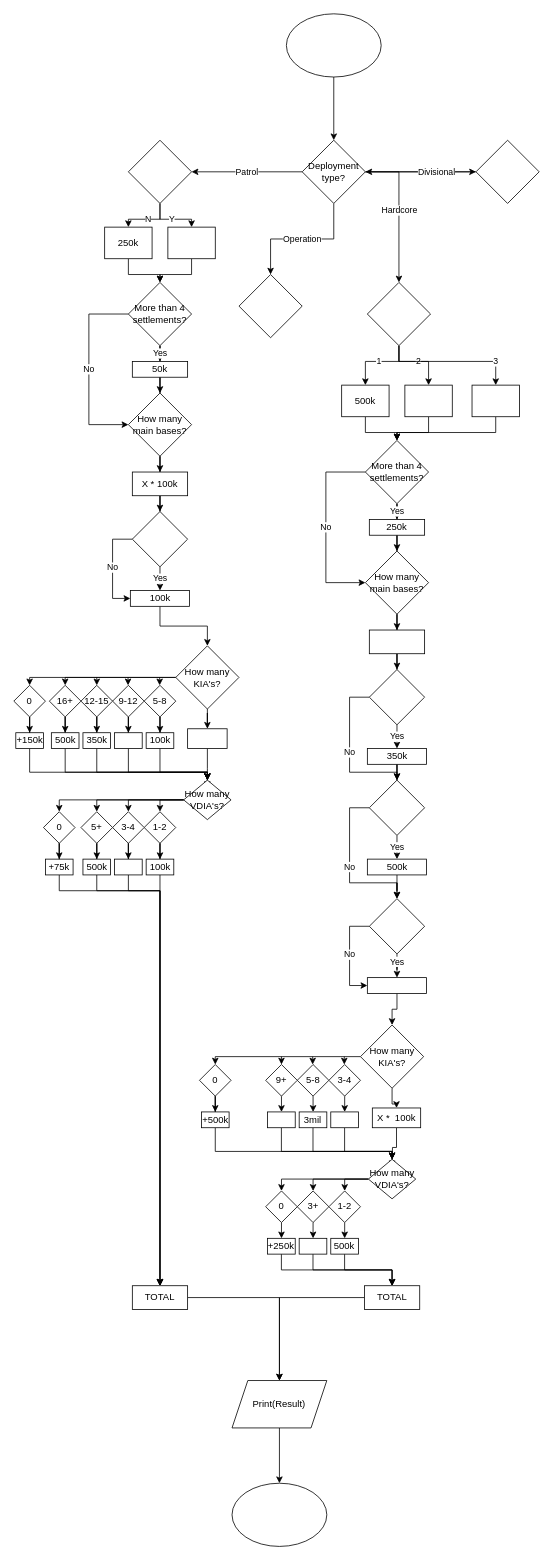
The diagram is 553 pixels wide and 1560 high, and some of its shapes have lost their labels. The centre of each missing label's shape, as x and y in pixels:
"1,25mil" goes at (x=495, y=400).
"1,5mil" goes at (x=344, y=1119).
"1mil" goes at (x=312, y=1246).
"200k" goes at (x=128, y=740).
"200kl" goes at (x=128, y=866).
"5 Settlements with no KIA?" goes at (x=397, y=697).
"6 Settlements with 1 KIA or less?" goes at (x=397, y=807).
"6mil" goes at (x=281, y=1119).
"750k" goes at (x=428, y=400).
"Add 375k" goes at (x=191, y=242).
"Choose correct option:" goes at (x=399, y=314).
"Did they hold 1 wave in 4 locations?" goes at (x=160, y=539).
"Fin" goes at (x=279, y=1514).
"How many bases with 1 KIA or less?" goes at (x=397, y=926).
"Minimum Payment? Was it more than 40 min?" goes at (x=160, y=171).
"Start" goes at (x=333, y=45).
"X * 200k" goes at (x=397, y=641).
"X * 50k" goes at (x=207, y=738).
"X * 750k" goes at (x=397, y=985).
